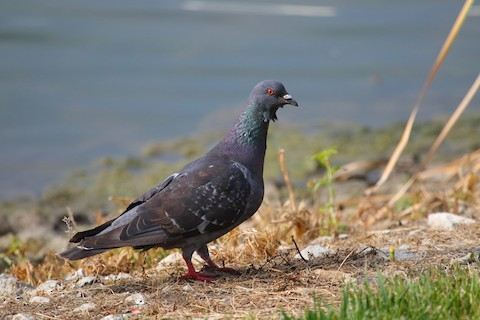pigeon: (55, 74, 301, 284)
